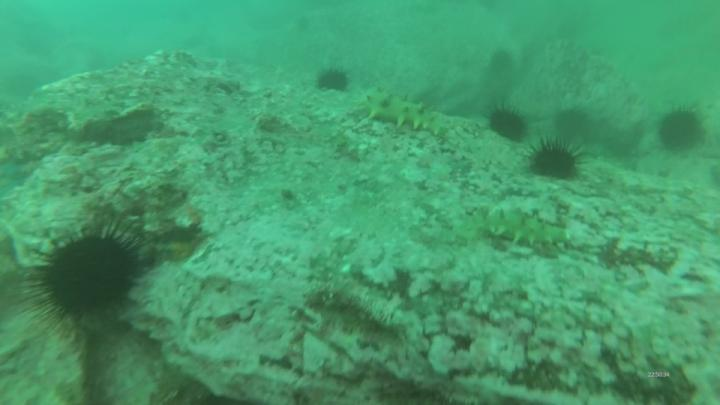echinus: (16, 222, 155, 337), (656, 103, 706, 157), (527, 137, 587, 181), (483, 102, 533, 146), (552, 107, 592, 143), (315, 66, 353, 94), (487, 48, 517, 76)
holothurian: (469, 201, 576, 253), (358, 86, 449, 138)
